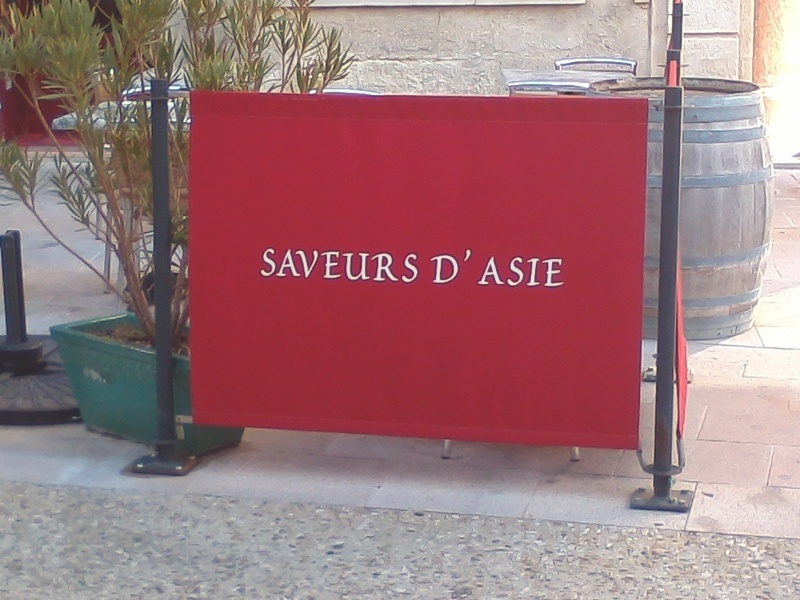text: (273, 247, 288, 284), (289, 247, 304, 284), (305, 247, 320, 284), (321, 247, 336, 284), (337, 247, 352, 284), (353, 247, 368, 284), (369, 247, 384, 284), (385, 247, 400, 284), (401, 247, 416, 284), (433, 248, 448, 285), (449, 248, 464, 285), (497, 254, 512, 288), (513, 254, 528, 288), (529, 254, 544, 288), (545, 254, 560, 288), (260, 247, 272, 284), (484, 254, 496, 288), (561, 254, 572, 288), (465, 248, 472, 285), (417, 247, 419, 284), (431, 248, 432, 285)
